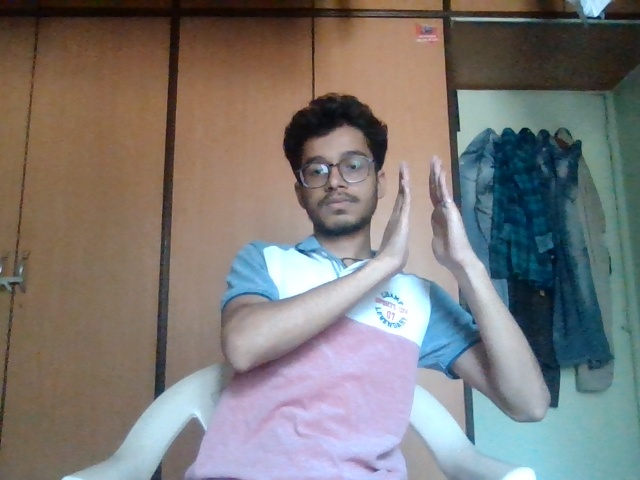morning: (376, 153, 505, 315)
